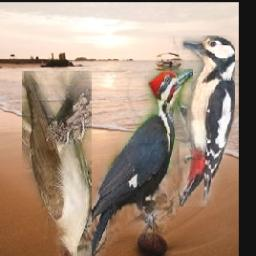Cuckoo: (23, 71, 93, 256)
Woodpecker: (80, 69, 194, 256), (164, 37, 236, 208)
